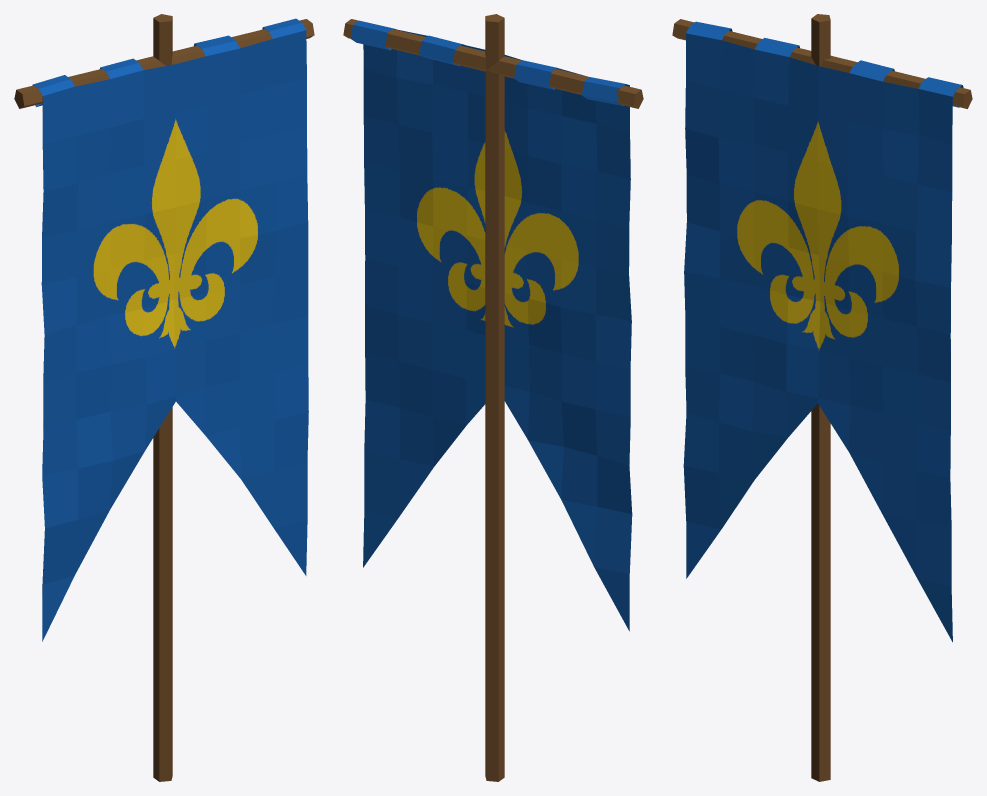
The model's file is Estandard.FBX.
3 views of the same model, side by side, from view 1: azimuth 30°, elevation 25°; view 2: azimuth 150°, elevation 25°; view 3: azimuth 330°, elevation 25° (orthographic).
Visible parts, largest first — view 1: Plane001; view 2: Plane001; view 3: Plane001.
Boxes of the visible parts, bbox=[...] form: Plane001: bbox=[14, 14, 314, 781]; Plane001: bbox=[343, 14, 643, 781]; Plane001: bbox=[672, 14, 972, 781].
Size of the model in its own units: 32 by 80 by 3.17.
1 material, 1 textured.
